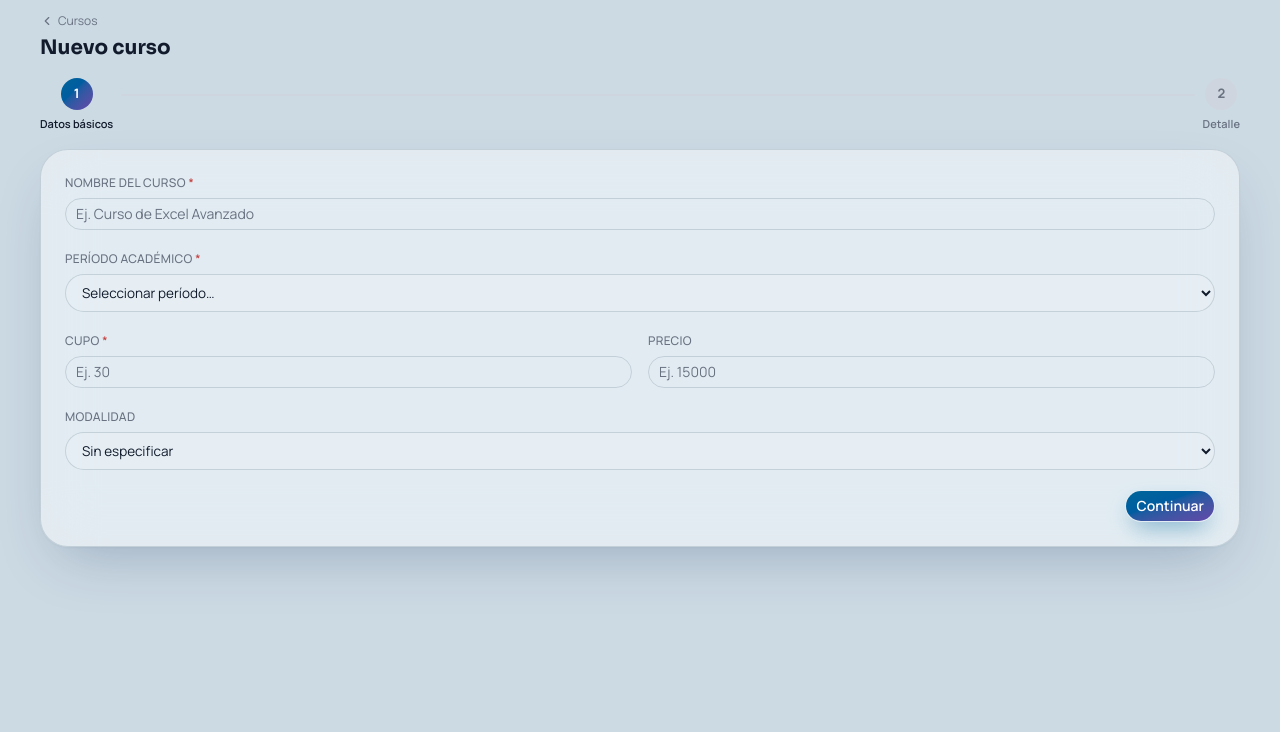
Test: CursoWizard › requires the duration in months before creating the course
Type "Excel avanzado" into the field with placeholder "Ej. Curso de Excel Avanzado" at (640, 214), box [65,198,1215,230]
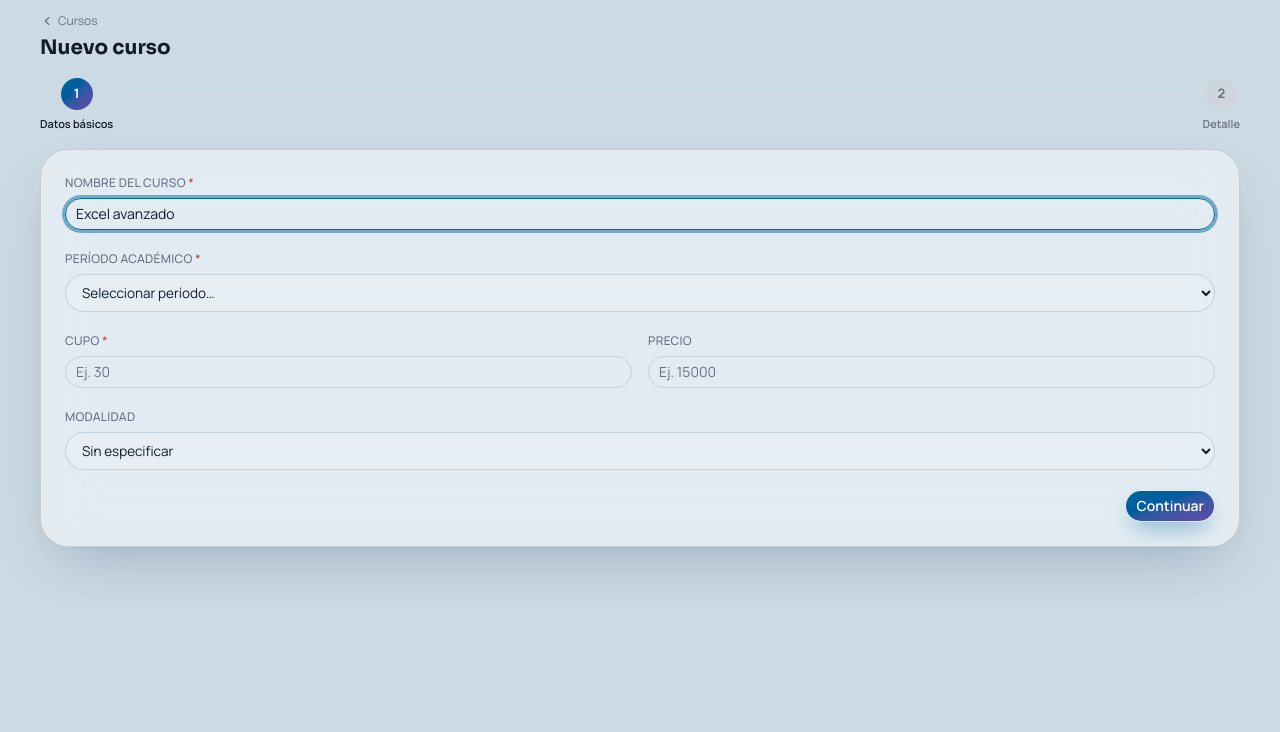
Select "2027 — Anual" in the dropdown below "Período académico" at (640, 292), box [65,274,1215,312]
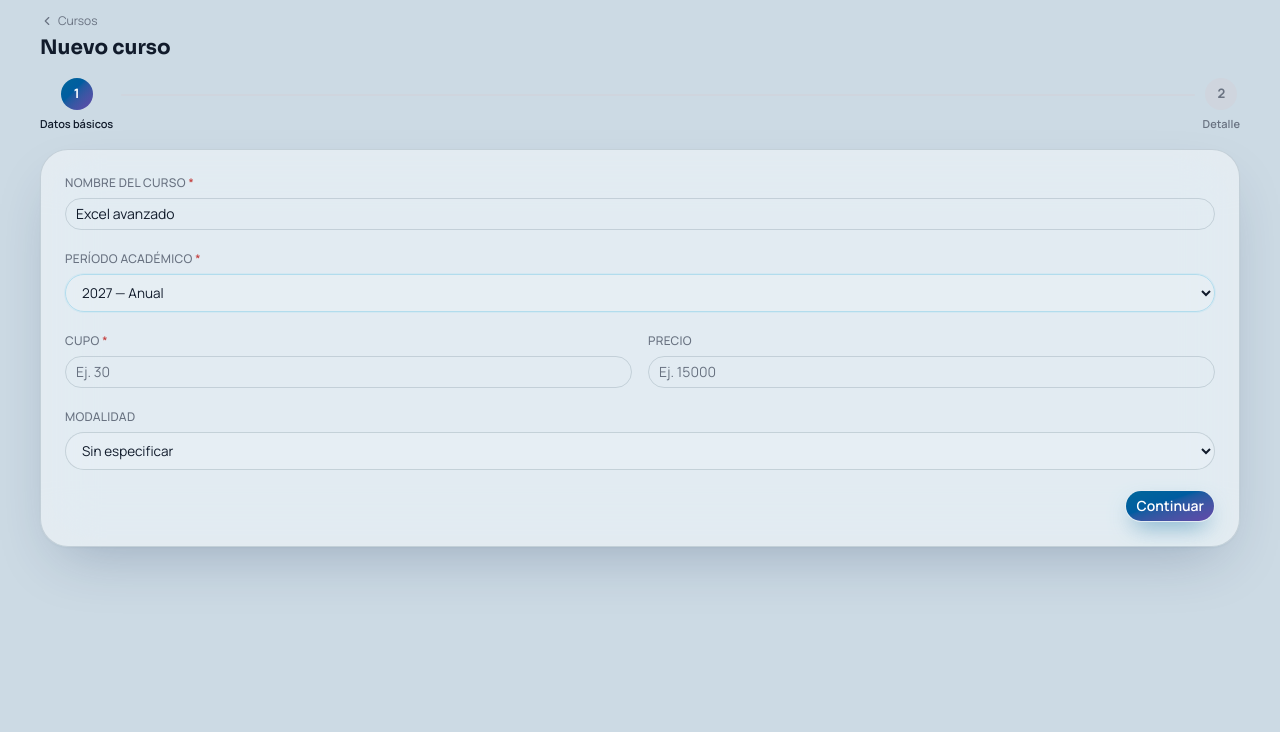
Type "20" into the number field with placeholder "Ej. 30" at (348, 372), box [65,356,632,388]
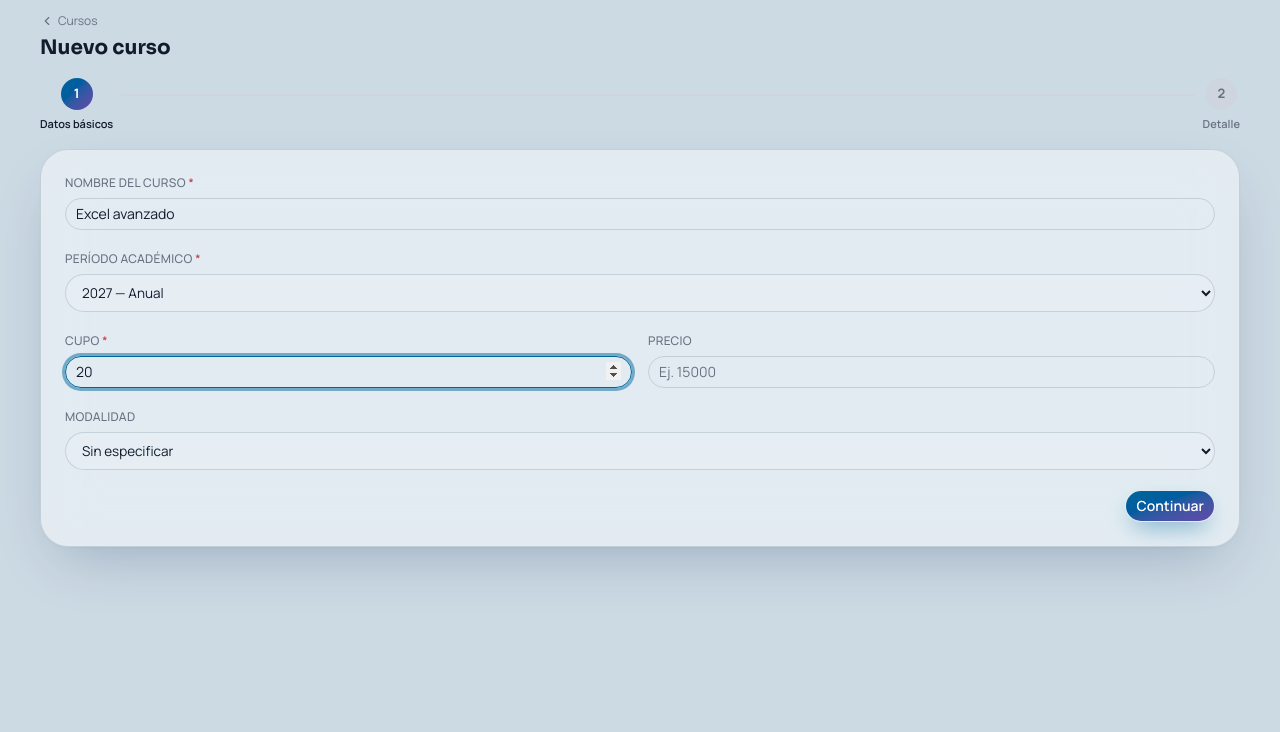
Click the button "Continuar" at (1170, 506), box [1125,490,1215,522]
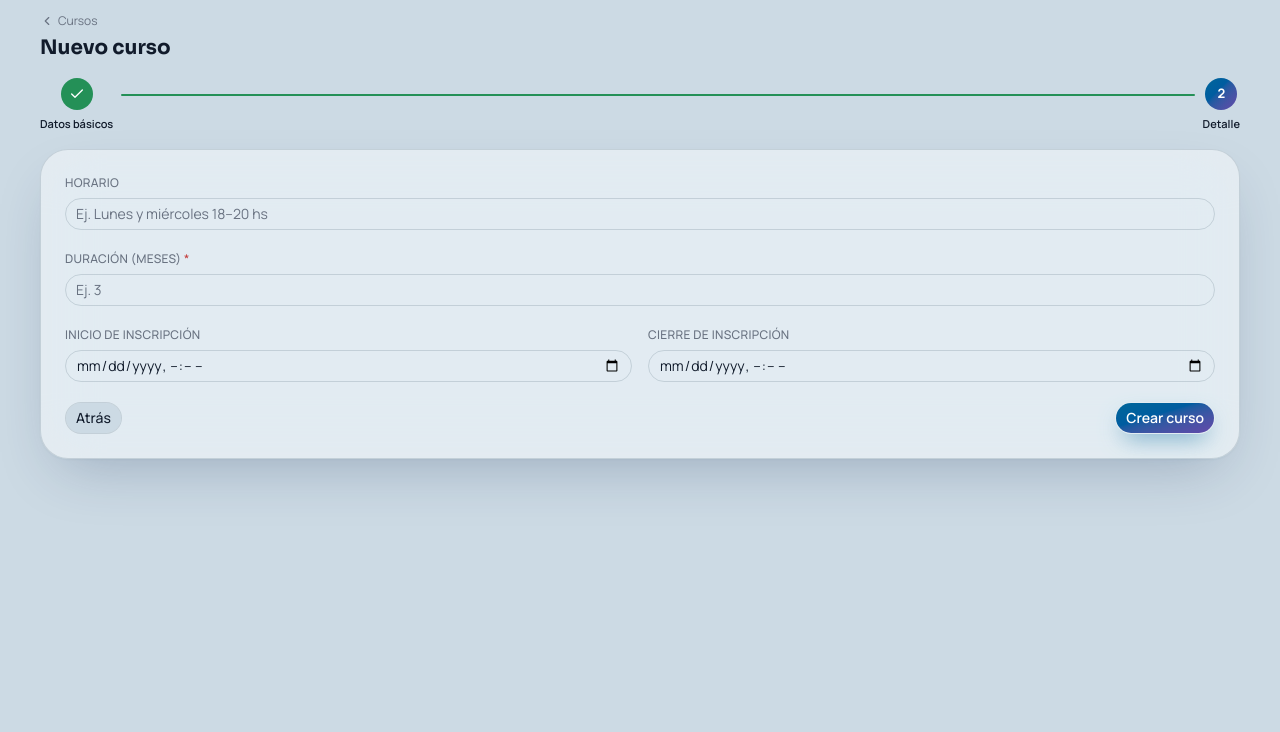
Click the button "Crear curso" at (1165, 418), box [1115,402,1215,434]
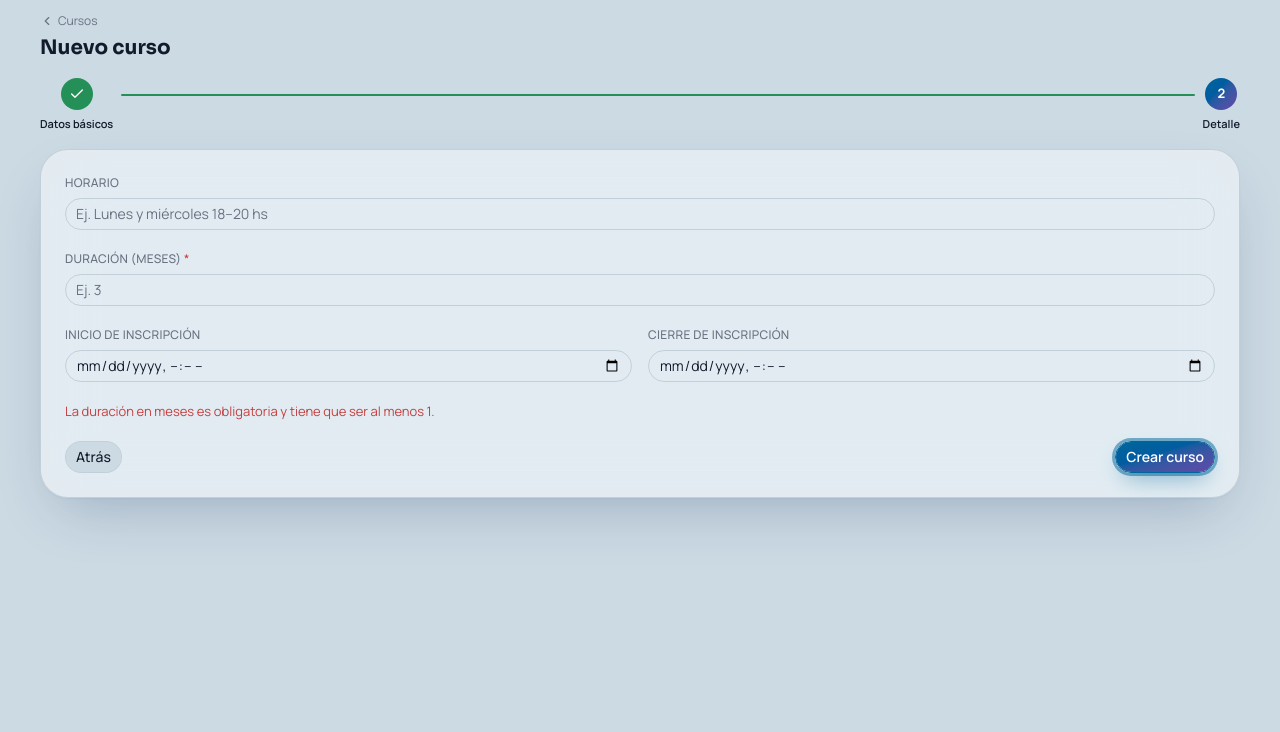
Expected: the text "La duración en meses es obligatoria y tiene que ser al menos 1." is shown, [65,402,434,420]
